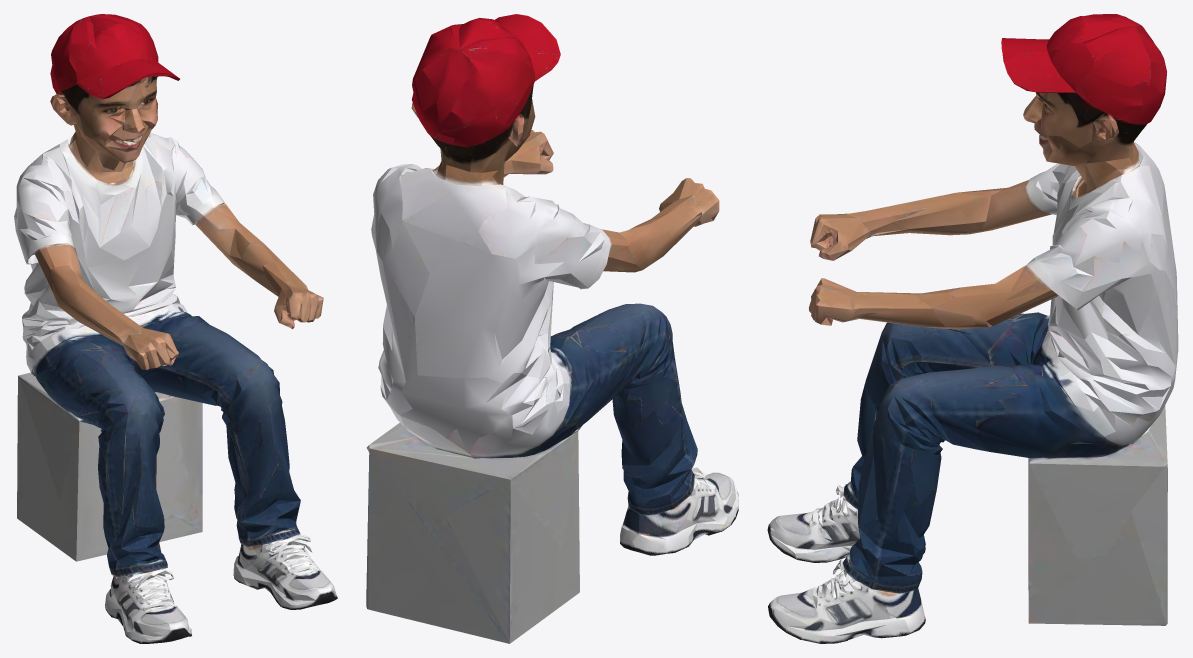
Rendered from d_kid.glb.
3 views of the same model, side by side, from view 1: azimuth 30°, elevation 25°; view 2: azimuth 150°, elevation 25°; view 3: azimuth 270°, elevation 25° (orthographic). The views are drawn at different scales.
Visible parts, largest first — view 1: output_unwrapped; view 2: output_unwrapped; view 3: output_unwrapped.
Boxes of the visible parts, bbox=[...] form: output_unwrapped: bbox=[14, 14, 337, 643]; output_unwrapped: bbox=[366, 14, 738, 643]; output_unwrapped: bbox=[767, 14, 1178, 643].
Size of the model in its own units: 0.7958 by 1.9 by 1.24.
Materials: 1 (1 with a texture image).
